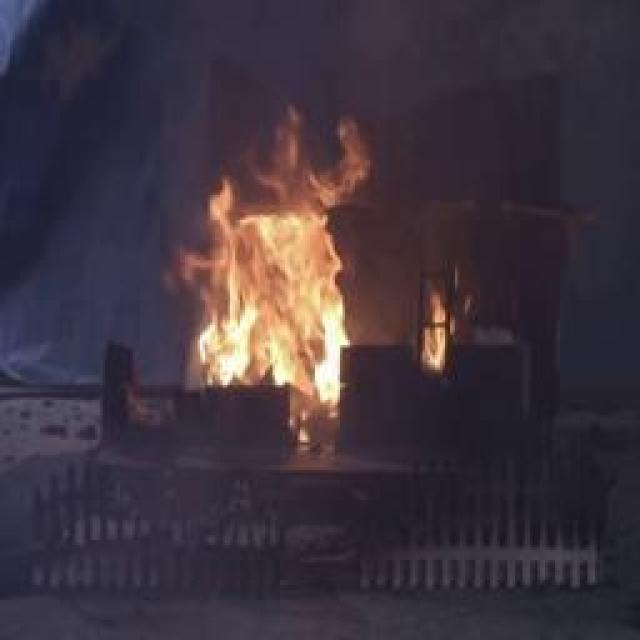fire: (172, 104, 370, 436)
